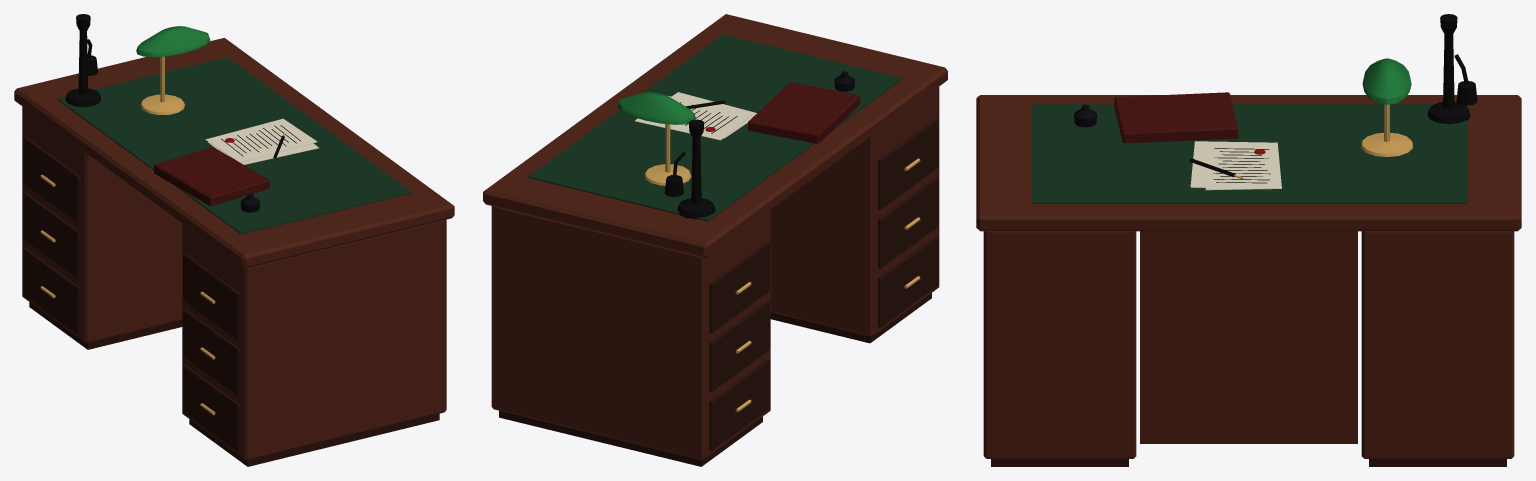
File: e18_desk.glb
3 renders of one model, left to right at view 1: azimuth 30°, elevation 25°; view 2: azimuth 150°, elevation 25°; view 3: azimuth 270°, elevation 25°, orthographic. The views are drawn at different scales.
Visible parts, largest first — view 1: teil0, teil1, teil2, teil12, teil6, teil9, teil4, teil3; view 2: teil0, teil1, teil2, teil12, teil9, teil6, teil4, teil3; view 3: teil0, teil1, teil12, teil6, teil9, teil2, teil4, teil3, teil7.
Part boxes in pixels (x1=…): teil0: x1=14, y1=38, x2=454, y2=460; teil1: x1=57, y1=57, x2=411, y2=234; teil2: x1=23, y1=136, x2=439, y2=466; teil12: x1=154, y1=147, x2=269, y2=206; teil6: x1=205, y1=118, x2=318, y2=164; teil9: x1=65, y1=14, x2=284, y2=158; teil4: x1=136, y1=26, x2=210, y2=57; teil3: x1=40, y1=56, x2=215, y2=415; teil0: x1=483, y1=14, x2=947, y2=460; teil1: x1=528, y1=34, x2=902, y2=221; teil2: x1=499, y1=117, x2=938, y2=466; teil12: x1=748, y1=82, x2=860, y2=144; teil9: x1=664, y1=100, x2=725, y2=219; teil6: x1=635, y1=92, x2=756, y2=140; teil4: x1=617, y1=92, x2=695, y2=124; teil3: x1=644, y1=124, x2=920, y2=412; teil0: x1=976, y1=95, x2=1521, y2=458; teil1: x1=1031, y1=104, x2=1466, y2=203; teil12: x1=1114, y1=92, x2=1238, y2=143; teil6: x1=1190, y1=141, x2=1281, y2=190; teil9: x1=1189, y1=14, x2=1477, y2=177; teil2: x1=991, y1=459, x2=1506, y2=466; teil4: x1=1362, y1=58, x2=1411, y2=104; teil3: x1=1361, y1=104, x2=1412, y2=156; teil7: x1=1213, y1=148, x2=1270, y2=183.
Bounding box in the file's own units: 0.8052 × 1.09 × 1.5.
